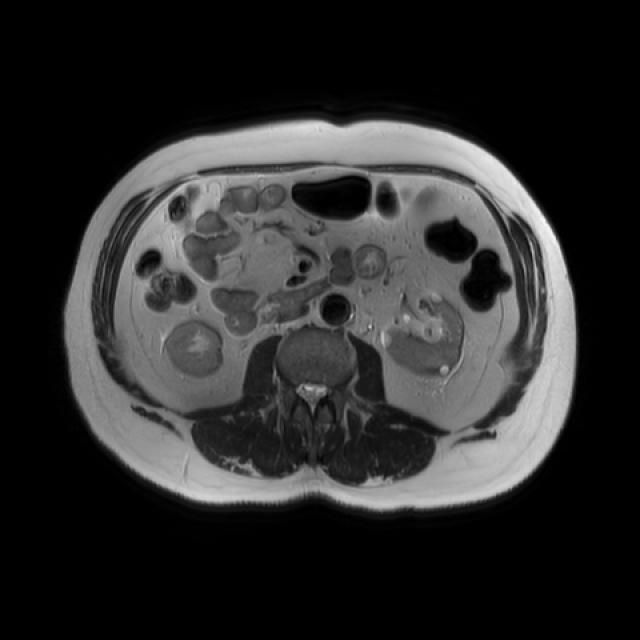sag: (161, 319, 223, 377)
sol: (377, 291, 466, 376)
